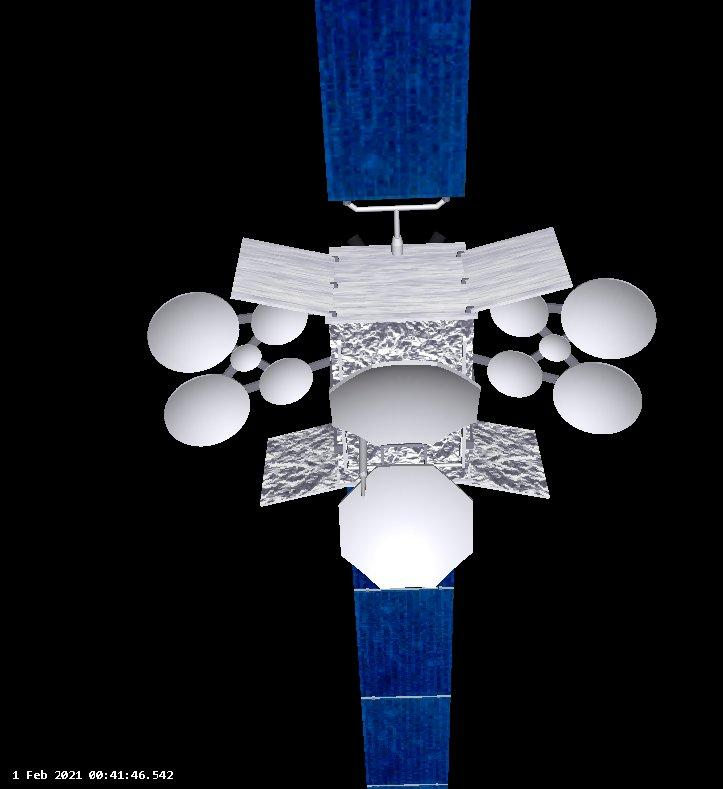antenna: (337, 462, 476, 592), (327, 359, 483, 451), (559, 276, 658, 360), (146, 290, 240, 374), (551, 360, 644, 436), (162, 372, 252, 449), (485, 347, 544, 400), (257, 357, 315, 407), (488, 294, 551, 339), (249, 303, 309, 347), (537, 333, 573, 364), (229, 343, 264, 374)
body: (323, 241, 483, 489)
solar: (312, 0, 473, 205), (351, 562, 457, 789)
